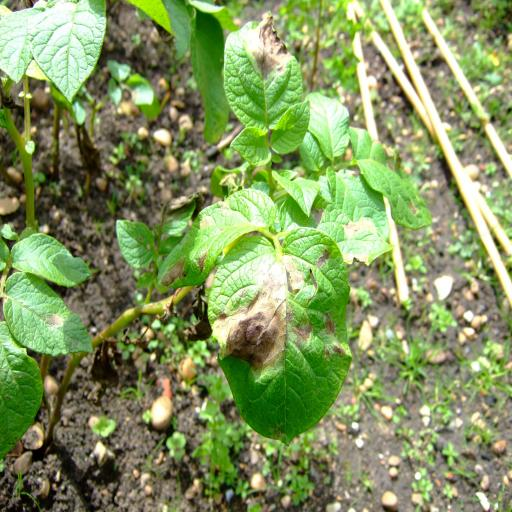disease_tomato: (208, 229, 360, 435), (223, 14, 305, 136), (4, 273, 94, 357)
